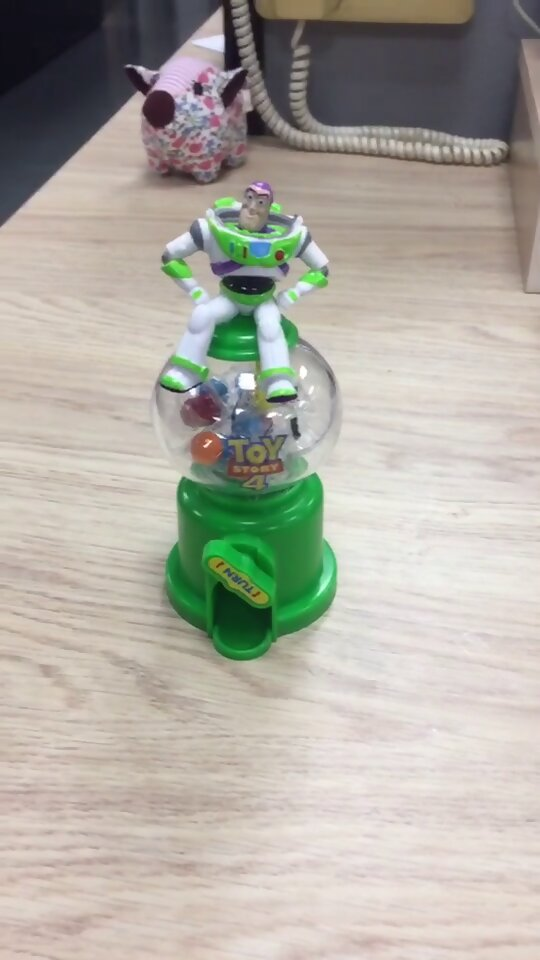buzz: (152, 176, 340, 662)
